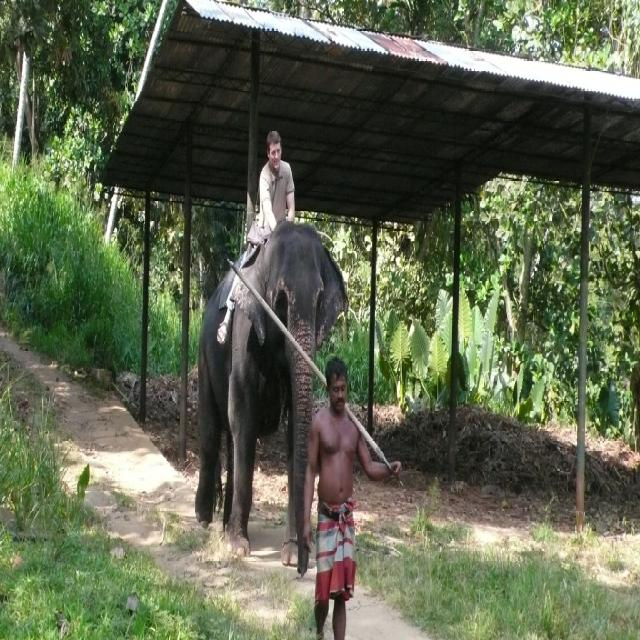Elephant: (194, 218, 348, 572)
person: (301, 355, 402, 639), (216, 129, 295, 344)
